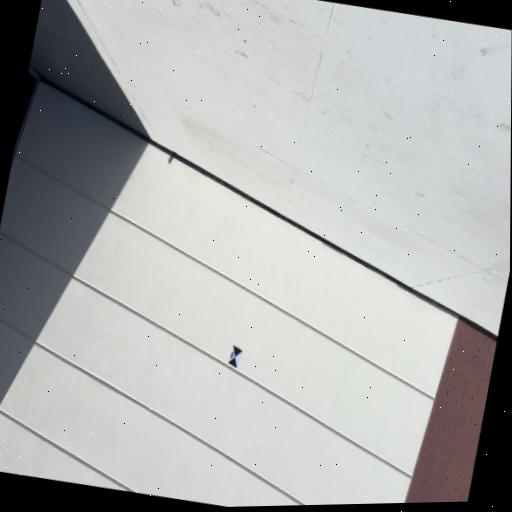target4: (227, 345, 242, 368)
